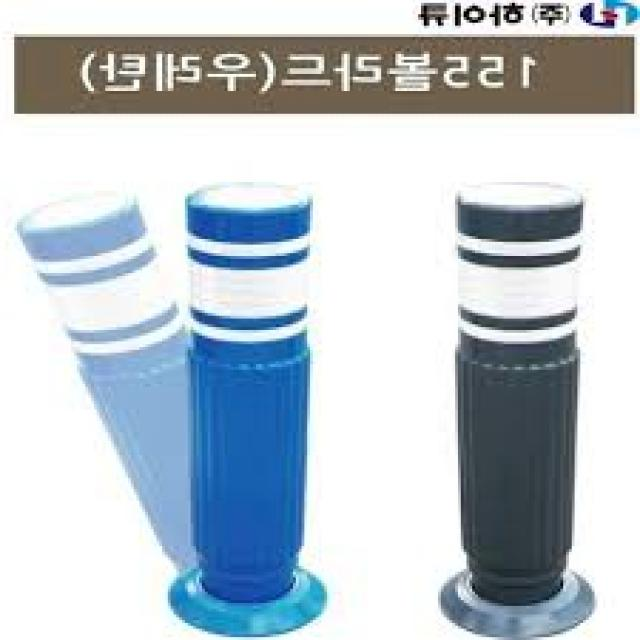bollard: (146, 170, 334, 636), (434, 166, 613, 637)
